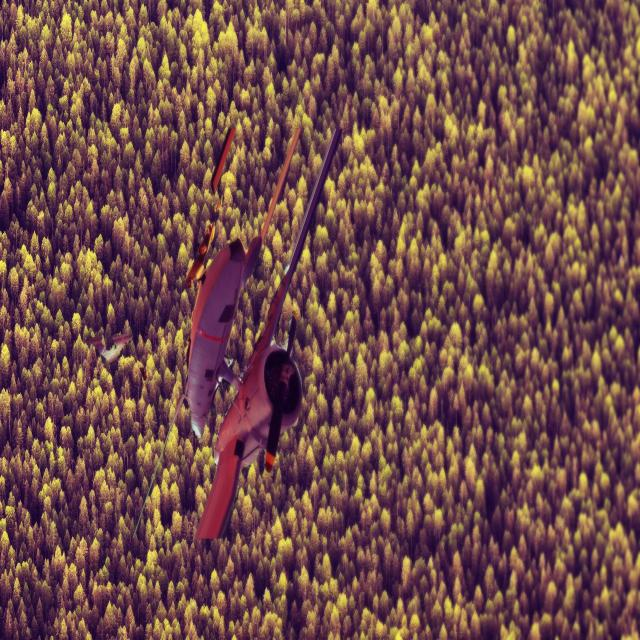airplane: (130, 122, 342, 544)
